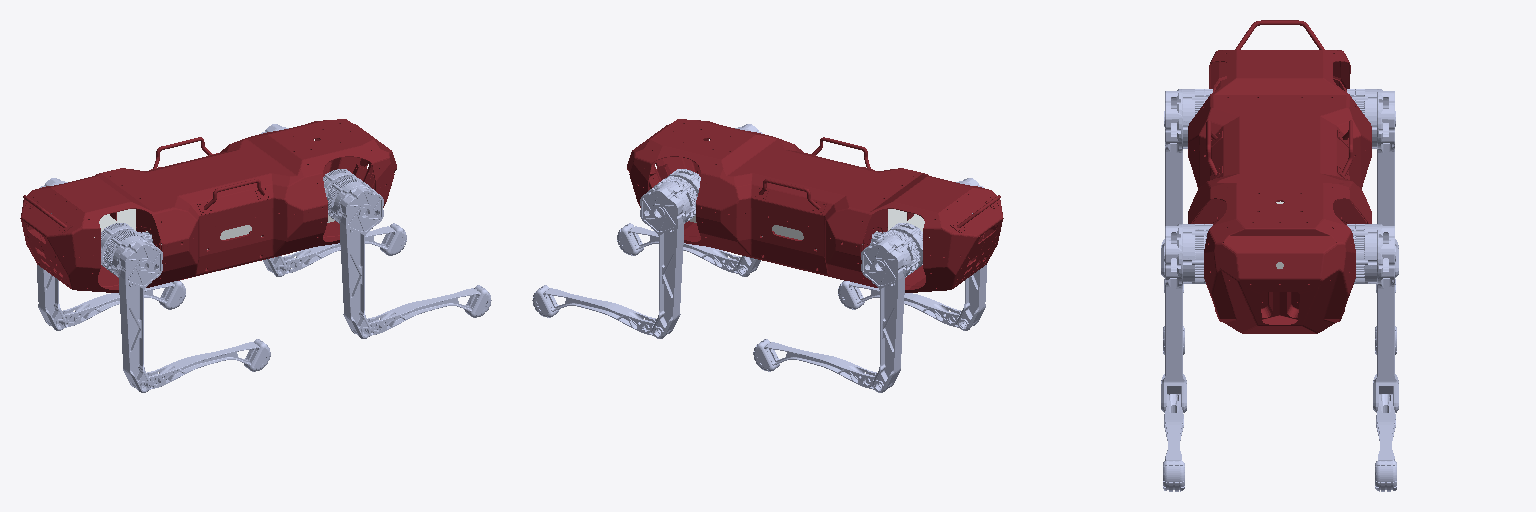
--- What the picture shows (computed from the rendered views, not written in the file) ---
The picture shows the robot from 3 angles, left to right: view 1: azimuth 30°, elevation 25°; view 2: azimuth 150°, elevation 25°; view 3: azimuth 270°, elevation 25°; orthographic projection.
Robot: panda5_test — 32 links, 31 joints (12 revolute, 19 fixed); root link base; default pose: joints at zero except 4 at the middle of their limits (LF_3_Link_joint = -1.56, RF_3_Link_joint = -1.56, LH_3_Link_joint = -1.56, RH_3_Link_joint = -1.56).
Visible links, largest first — view 1: base, RH_2_Link, RF_2_Link, RF_3_Link, RH_3_Link, LH_3_Link, LH_2_Link, LF_3_Link, peizhong_Link, RH_1_Link; view 2: base, LH_2_Link, LF_2_Link, LF_3_Link, LH_3_Link, RH_3_Link, RH_2_Link, RF_3_Link, peizhong_Link, LH_1_Link; view 3: base, RF_2_Link, LF_2_Link, LH_2_Link, RH_2_Link, LF_3_Link, RF_3_Link, LF_zuduan_Link, RF_zuduan_Link.
Link boxes in pixels (box(x1,y1,x2,y2)): base: box(20, 119, 396, 292); RH_2_Link: box(104, 230, 162, 392); RF_2_Link: box(326, 176, 383, 338); RF_3_Link: box(353, 288, 480, 335); RH_3_Link: box(132, 342, 259, 389); LH_3_Link: box(47, 282, 174, 327); LH_2_Link: box(37, 178, 67, 330); LF_3_Link: box(268, 226, 395, 273); peizhong_Link: box(94, 209, 334, 249); RH_1_Link: box(101, 223, 153, 269); base: box(627, 119, 1003, 292); LH_2_Link: box(861, 230, 919, 392); LF_2_Link: box(640, 176, 697, 338); LF_3_Link: box(543, 288, 670, 335); LH_3_Link: box(764, 342, 891, 389); RH_3_Link: box(849, 282, 976, 327); RH_2_Link: box(956, 178, 986, 330); RF_3_Link: box(628, 226, 755, 273); peizhong_Link: box(689, 209, 929, 249); LH_1_Link: box(870, 223, 922, 269); base: box(1188, 20, 1371, 333); RF_2_Link: box(1161, 224, 1212, 412); LF_2_Link: box(1347, 224, 1398, 412); LH_2_Link: box(1347, 89, 1398, 277); RH_2_Link: box(1161, 89, 1212, 277); LF_3_Link: box(1376, 394, 1395, 460); RF_3_Link: box(1164, 394, 1183, 460); LF_zuduan_Link: box(1375, 460, 1396, 491); RF_zuduan_Link: box(1163, 460, 1184, 491).
Size in the robot's own frame: 1.24 by 0.4896 by 0.5127 metres.
18 mesh visuals loaded from 18 distinct referenced files (18 binary STL).

The robot description file, URDF, robot "panda5_test":
<?xml version="1.0" encoding="utf-8"?>
<!-- This URDF was automatically created by SolidWorks to URDF Exporter! Originally created by Stephen Brawner ([email redacted]) 
     Commit Version: 1.6.0-1-g15f4949  Build Version: 1.6.7594.29634
     For more information, please see http://wiki.ros.org/sw_urdf_exporter -->
<robot
  name="panda5_test">
  <link
    name="base">
    <visual>
      <origin
        xyz="0 0 0"
        rpy="0 0 0" />
      <geometry>
        <mesh
          filename="package://meshes/base_link.STL" />
      </geometry>
      <material
        name="">
        <color
          rgba="0.549 0.2 0.235 1.0" />
      </material>
    </visual>
    <collision>
      <origin
        xyz="0.1315 0.017 0.0066"
        rpy="0 0 0" />
      <geometry>
        <box size="1.037 .26 .217"/>  
      </geometry>
    </collision>
  </link>

  <joint name="control_joint" type="fixed">
      <parent link="base"/>
      <child link="control_link"/>
      <origin
        xyz="0.136 0.0166 0.020629"
        rpy="0 0 0" />
  </joint>

  <link name="control_link">
  </link>

  <joint name="base_to_base_inertia" type="fixed">
      <parent link="base"/>
      <child link="base_inertia"/>
      <origin rpy="0 0 0" xyz="0 0 0"/>
  </joint>

  <link name="base_inertia">
    <inertial>
      <origin
        xyz="0.14478 0.016356 0.017801"
        rpy="0 0 0" />
      <mass
        value="2.6548" />
      <inertia
        ixx="0.026123"
        ixy="-8.0841E-06"
        ixz="0.00026624"
        iyy="0.16471"
        iyz="7.822E-07"
        izz="0.18256" />
    </inertial>
  </link>

  <link
    name="peizhong_Link">
    <inertial>
      <origin
        xyz="0.13425 0.016628 -0.0134"
        rpy="0 0 0" />
      <mass
        value="29.505" />
      <inertia
        ixx="0.16252"
        ixy="6.0236E-11"
        ixz="0"
        iyy="1.2136"
        iyz="0"
        izz="1.3585" />
    </inertial>
    <visual>
      <origin
        xyz="0 0 0"
        rpy="0 0 0" />
      <geometry>
        <mesh
          filename="package://meshes/peizhong_Link.STL" />
      </geometry>
      <material
        name="">
        <color
          rgba="0.89804 0.91765 0.92941 1" />
      </material>
    </visual>
  </link>
  <joint
    name="peizhong_Link_joint"
    type="fixed">
    <origin
      xyz="0 0 0"
      rpy="0 0 0" />
    <parent
      link="base" />
    <child
      link="peizhong_Link" />
    <axis
      xyz="0 0 0" />
  </joint>
  <link
    name="LF_1_Link">
    <inertial>
      <origin
        xyz="0.059247 -0.0029797 -0.00092353"
        rpy="0 0 0" />
      <mass
        value="0.18512" />
      <inertia
        ixx="0.00018562"
        ixy="-2.6592E-06"
        ixz="2.3147E-07"
        iyy="0.00045415"
        iyz="1.6002E-07"
        izz="0.00029591" />
    </inertial>
    <visual>
      <origin
        xyz="0 0 0"
        rpy="0 0 0" />
      <geometry>
        <mesh
          filename="package://meshes/LF_1_Link.STL" />
      </geometry>
      <material
        name="">
        <color
          rgba="0.79216 0.81961 0.93333 1" />
      </material>
    </visual>
<!--     <collision>
      <origin
        xyz="0 0 0"
        rpy="0 0 0" />
      <geometry>
        <mesh
          filename="package://meshes/LF_1_Link.STL" />
      </geometry>
    </collision> -->
  </link>
  <joint
    name="LF_1_Link_joint"
    type="revolute">
    <origin
      xyz="0.38425 0.13163 0.020629"
      rpy="0 0 0" />
    <parent
      link="base" />
    <child
      link="LF_1_Link" />
    <axis
      xyz="1 0 0" />
    <limit
      lower="-0.64"
      upper="0.80"
      effort="202.8375"
      velocity="18" />
      <dynamics rotor_inertia="0.0495" damping="0.01" friction="0.2"/>
  </joint>
  <link
    name="LF_1_peizhong_Link">
    <inertial>
      <origin
        xyz="0.081751 -0.024995 -2.2044E-06"
        rpy="0 0 0" />
      <mass
        value="2.2246" />
      <inertia
        ixx="0.0029106"
        ixy="-2.0063E-11"
        ixz="-1.7669E-15"
        iyy="0.0040043"
        iyz="9.6328E-08"
        izz="0.0029106" />
    </inertial>
  </link>
  <joint
    name="LF_1_peizhong_Link_joint"
    type="fixed">
    <origin
      xyz="0 0 0"
      rpy="0 0 0" />
    <parent
      link="LF_1_Link" />
    <child
      link="LF_1_peizhong_Link" />
    <axis
      xyz="0 0 0" />
  </joint>
  <link
    name="LF_2_Link">
    <inertial>
      <origin
        xyz="-0.009016 -0.018516 -0.082774"
        rpy="0 0 0" />
      <mass
        value="0.47211" />
      <inertia
        ixx="0.0044015"
        ixy="-5.7806E-06"
        ixz="-0.00011247"
        iyy="0.0048143"
        iyz="-5.2882E-05"
        izz="0.00049692" />
    </inertial>
    <visual>
      <origin
        xyz="0 0 0"
        rpy="0 0 0" />
      <geometry>
        <mesh
          filename="package://meshes/LF_2_Link.STL" />
      </geometry>
      <material
        name="">
        <color
          rgba="0.79216 0.81961 0.93333 1" />
      </material>
    </visual>
<!--     <collision>
      <origin
        xyz="0 0 0"
        rpy="0 0 0" />
      <geometry>
        <mesh
          filename="package://meshes/LF_2_Link.STL" />
      </geometry>
    </collision> -->
  </link>
  <joint
    name="LF_2_Link_joint"
    type="revolute">
    <origin
      xyz="0.081751 0.10375 0"
      rpy="0.00021197 0.001 0.0001925" />
    <parent
      link="LF_1_Link" />
    <child
      link="LF_2_Link" />
    <axis
      xyz="0 1 0" />
    <limit
      lower="-0.52"
      upper="2.61"
      effort="202.8375"
      velocity="18" />
      <dynamics rotor_inertia="0.0495" damping="0.01" friction="0.2"/>
  </joint>
  <link
    name="LF_2_peizhong_Link">
    <inertial>
      <origin
        xyz="-0.0010406 -0.039509 -0.029788"
        rpy="0 0 0" />
      <mass
        value="2.3492" />
      <inertia
        ixx="0.0047298"
        ixy="-1.1181E-08"
        ixz="0.00013061"
        iyy="0.0058648"
        iyz="-5.9783E-10"
        izz="0.002294" />
    </inertial>
  </link>
  <joint
    name="LF_2_peizhong_Link"
    type="fixed">
    <origin
      xyz="0 0 0"
      rpy="0 0 0" />
    <parent
      link="LF_2_Link" />
    <child
      link="LF_2_peizhong_Link" />
    <axis
      xyz="0 0 0" />
  </joint>
  <link
    name="LF_3_Link">
    <inertial>
      <origin
        xyz="0.010726 1.5105E-05 -0.13966"
        rpy="0 0 0" />
      <mass
        value="0.12897" />
      <inertia
        ixx="0.0015448"
        ixy="2.101E-08"
        ixz="9.5832E-05"
        iyy="0.0015606"
        iyz="-1.8797E-07"
        izz="3.7274E-05" />
    </inertial>
    <visual>
      <origin
        xyz="0 0 0"
        rpy="0 0 0" />
      <geometry>
        <mesh
          filename="package://meshes/LF_3_Link.STL" />
      </geometry>
      <material
        name="">
        <color
          rgba="0.79216 0.81961 0.93333 1" />
      </material>
    </visual>
<!--     <collision>
      <origin
        xyz="0 0 0"
        rpy="0 0 0" />
      <geometry>
        <mesh
          filename="package://meshes/LF_3_Link.STL" />
      </geometry>
    </collision> -->
  </link>
  <joint
    name="LF_3_Link_joint"
    type="revolute">
    <origin
      xyz="-2.8395E-05 0 -0.34"
      rpy="-3.1416 -3.1417 3.1416" />
    <parent
      link="LF_2_Link" />
    <child
      link="LF_3_Link" />
    <axis
      xyz="0 1 0" />
    <limit
      lower="-2.61"
      upper="-0.52"
      effort="202.8375"
      velocity="18" />
      <dynamics rotor_inertia="0.0495" damping="0.01" friction="0.2"/>
  </joint>
  <link
    name="LF_3_peizhong_Link">
    <inertial>
      <origin
        xyz="0.00725 -4.0301E-14 -0.16862"
        rpy="0 0 0" />
      <mass
        value="0.24236" />
      <inertia
        ixx="0.0012805"
        ixy="-8.6066E-17"
        ixz="3.5795E-20"
        iyy="0.001265"
        iyz="-5.0031E-20"
        izz="2.0848E-05" />
    </inertial>
    <collision>
      <origin
        xyz="0.00725 -4.0301E-14 -0.16862"
        rpy="0 0 0" />
      <geometry>
        <box size=".041 .041 .25"/> 
      </geometry>
    </collision>
  </link>
    
  <joint
    name="LF_3_peizhong_Link_joint"
    type="fixed">
    <origin
      xyz="0 0 0"
      rpy="0 0 0" />
    <parent
      link="LF_3_Link" />
    <child
      link="LF_3_peizhong_Link" />
    <axis
      xyz="0 0 0" />
  </joint>
  <link
    name="LF_zuduan_Link">
    <inertial>
      <origin
        xyz="-0.0090407 1.3416E-07 -0.015667"
        rpy="0 0 0" />
      <mass
        value="0.098309" />
      <inertia
        ixx="3.5722E-05"
        ixy="-1.1338E-10"
        ixz="1.2758E-05"
        iyy="5.0334E-05"
        iyz="-1.4161E-10"
        izz="5.0474E-05" />
    </inertial>
    <visual>
      <origin
        xyz="0 0 0"
        rpy="0 0 0" />
      <geometry>
        <mesh
          filename="package://meshes/LF_zuduan_Link.STL" />
      </geometry>
      <material
        name="">
        <color
          rgba="0.79216 0.81961 0.93333 1" />
      </material>
    </visual>
    <collision>
      <origin
        xyz="0 0 0"
        rpy="0 0 0" />
      <geometry>
        <sphere radius="0.041"/><!-- <cylinder length='.028' radius="0.02"/> -->
      </geometry>
      <material name="">
        <contact name="foot0"/>
      </material>
    </collision>
  </link>
  <joint
    name="LF_zuduan_Link_joint"
    type="fixed">
    <origin
      xyz="0.0042202 0 -0.3386"
      rpy="0 0 0" />
    <parent
      link="LF_3_Link" />
    <child
      link="LF_zuduan_Link" />
    <axis
      xyz="0 0 0" />
  </joint>
  <link
    name="RF_1_Link">
    <inertial>
      <origin
        xyz="0.059247 0.0029797 -0.00092332"
        rpy="0 0 0" />
      <mass
        value="0.18511" />
      <inertia
        ixx="0.00018562"
        ixy="2.6593E-06"
        ixz="2.3166E-07"
        iyy="0.00045414"
        iyz="-1.4607E-07"
        izz="0.00029591" />
    </inertial>
    <visual>
      <origin
        xyz="0 0 0"
        rpy="0 0 0" />
      <geometry>
        <mesh
          filename="package://meshes/RF_1_Link.STL" />
      </geometry>
      <material
        name="">
        <color
          rgba="0.79216 0.81961 0.93333 1" />
      </material>
    </visual>
<!--     <collision>
      <origin
        xyz="0 0 0"
        rpy="0 0 0" />
      <geometry>
        <mesh
          filename="package://meshes/RF_1_Link.STL" />
      </geometry>
    </collision> -->
  </link>
  <joint
    name="RF_1_Link_joint"
    type="revolute">
    <origin
      xyz="0.38425 -0.098372 0.020629"
      rpy="-8.807E-05 0 0" />
    <parent
      link="base" />
    <child
      link="RF_1_Link" />
    <axis
      xyz="1 0 0" />
    <limit
      lower="-0.80"
      upper="0.64"
      effort="202.8375"
      velocity="18" />
      <dynamics rotor_inertia="0.0495" damping="0.01" friction="0.2"/>
  </joint>
  <link
    name="RF_1_peizhong_Link">
    <inertial>
      <origin
        xyz="0.081751 0.024995 -1.3943E-09"
        rpy="0 0 0" />
      <mass
        value="2.2246" />
      <inertia
        ixx="0.0029106"
        ixy="-1.9141E-14"
        ixz="3.1359E-25"
        iyy="0.0040043"
        iyz="-1.9141E-14"
        izz="0.0029106" />
    </inertial>
  </link>
  <joint
    name="RF_1_peizhong_Link_joint"
    type="fixed">
    <origin
      xyz="0 0 0"
      rpy="0 0 0" />
    <parent
      link="RF_1_Link" />
    <child
      link="RF_1_peizhong_Link" />
    <axis
      xyz="0 0 0" />
  </joint>
  <link
    name="RF_2_Link">
    <inertial>
      <origin
        xyz="-0.009016 0.01851 -0.082776"
        rpy="0 0 0" />
      <mass
        value="0.47211" />
      <inertia
        ixx="0.0044015"
        ixy="5.7728E-06"
        ixz="-0.00011247"
        iyy="0.0048143"
        iyz="5.2593E-05"
        izz="0.00049691" />
    </inertial>
    <visual>
      <origin
        xyz="0 0 0"
        rpy="0 0 0" />
      <geometry>
        <mesh
          filename="package://meshes/RF_2_Link.STL" />
      </geometry>
      <material
        name="">
        <color
          rgba="0.79216 0.81961 0.93333 1" />
      </material>
    </visual>
<!--     <collision>
      <origin
        xyz="0 0 0"
        rpy="0 0 0" />
      <geometry>
        <mesh
          filename="package://meshes/RF_2_Link.STL" />
      </geometry>
    </collision> -->
  </link>
  <joint
    name="RF_2_Link_joint"
    type="revolute">
    <origin
      xyz="0.081751 -0.10375 0"
      rpy="9.0571E-05 0.001 2.6167E-05" />
    <parent
      link="RF_1_Link" />
    <child
      link="RF_2_Link" />
    <axis
      xyz="0 1 6.6299E-05" />
    <limit
      lower="-0.52"
      upper="2.61"
      effort="202.8375"
      velocity="18" />
      <dynamics rotor_inertia="0.0495" damping="0.01" friction="0.2"/>
  </joint>
  <link
    name="RF_2_peizhong_Link">
    <inertial>
      <origin
        xyz="-0.0010406 0.039507 -0.029791"
        rpy="0 0 0" />
      <mass
        value="2.3492" />
      <inertia
        ixx="0.0047298"
        ixy="1.9908E-08"
        ixz="0.00013061"
        iyy="0.0058648"
        iyz="-2.3801E-07"
        izz="0.002294" />
    </inertial>
  </link>
  <joint
    name="RF_2_peizhong_Link"
    type="fixed">
    <origin
      xyz="0 0 0"
      rpy="0 0 0" />
    <parent
      link="RF_2_Link" />
    <child
      link="RF_2_peizhong_Link" />
    <axis
      xyz="0 0 0" />
  </joint>
  <link
    name="RF_3_Link">
    <inertial>
      <origin
        xyz="0.010726 -2.7864E-05 -0.13966"
        rpy="0 0 0" />
      <mass
        value="0.12897" />
      <inertia
        ixx="0.0015448"
        ixy="-1.2496E-08"
        ixz="9.5832E-05"
        iyy="0.0015606"
        iyz="4.8157E-08"
        izz="3.7274E-05" />
    </inertial>
    <visual>
      <origin
        xyz="0 0 0"
        rpy="0 0 0" />
      <geometry>
        <mesh
          filename="package://meshes/RF_3_Link.STL" />
      </geometry>
      <material
        name="">
        <color
          rgba="0.79216 0.81961 0.93333 1" />
      </material>
    </visual>
<!--     <collision>
      <origin
        xyz="0 0 0"
        rpy="0 0 0" />
      <geometry>
        <mesh
          filename="package://meshes/RF_3_Link.STL" />
      </geometry>
    </collision> -->
  </link>
  <joint
    name="RF_3_Link_joint"
    type="revolute">
    <origin
      xyz="-2.8393E-05 -2.2719E-05 -0.34"
      rpy="-3.1414 -3.1417 3.1415" />
    <parent
      link="RF_2_Link" />
    <child
      link="RF_3_Link" />
    <axis
      xyz="0 1 9.1172E-05" />
    <limit
      lower="-2.61"
      upper="-0.52"
      effort="202.8375"
      velocity="18" />
      <dynamics rotor_inertia="0.0495" damping="0.01" friction="0.2"/>
  </joint>
  <link
    name="RF_3_peizhong_Link">
    <inertial>
      <origin
        xyz="0.00725 -1.5373E-05 -0.16862"
        rpy="0 0 0" />
      <mass
        value="0.24236" />
      <inertia
        ixx="0.0012805"
        ixy="-5.9337E-16"
        ixz="-7.4524E-12"
        iyy="0.001265"
        iyz="-1.1343E-07"
        izz="2.0848E-05" />
    </inertial>
    <collision>
      <origin
        xyz="0.00725 -1.5373E-05 -0.16862"
        rpy="0 0 0" />
      <geometry>
        <box size=".041 .041 .25"/> 
      </geometry>
    </collision>
  </link>
  <joint
    name="RF_3_peizhong_Link_joint"
    type="fixed">
    <origin
      xyz="0 0 0"
      rpy="0 0 0" />
    <parent
      link="RF_3_Link" />
    <child
      link="RF_3_peizhong_Link" />
    <axis
      xyz="0 0 0" />
  </joint>
  <link
    name="RF_zuduan_Link">
    <inertial>
      <origin
        xyz="-0.0090407 -1.4654E-06 -0.015667"
        rpy="0 0 0" />
      <mass
        value="0.098309" />
      <inertia
        ixx="3.5722E-05"
        ixy="1.398E-09"
        ixz="1.2758E-05"
        iyy="5.0334E-05"
        iyz="4.8805E-11"
        izz="5.0474E-05" />
    </inertial>
    <visual>
      <origin
        xyz="0 0 0"
        rpy="0 0 0" />
      <geometry>
        <mesh
          filename="package://meshes/RF_zuduan_Link.STL" />
      </geometry>
      <material
        name="">
        <color
          rgba="0.79216 0.81961 0.93333 1" />
      </material>
    </visual>
    <collision>
      <origin
        xyz="0 0 0"
        rpy="0 0 0" />
      <geometry>
        <sphere radius="0.041"/><!-- <cylinder length='.028' radius="0.02"/> -->
      </geometry>
      <material name="">
        <contact name="foot1"/>
      </material>
    </collision>
  </link>
  <joint
    name="RF_zuduan_Link_joint"
    type="fixed">
    <origin
      xyz="0.0042202 -3.0871E-05 -0.3386"
      rpy="0 0 0" />
    <parent
      link="RF_3_Link" />
    <child
      link="RF_zuduan_Link" />
    <axis
      xyz="0 0 0" />
  </joint>
  <link
    name="LH_1_Link">
    <inertial>
      <origin
        xyz="-0.059246 -0.0029796 -0.00092358"
        rpy="0 0 0" />
      <mass
        value="0.18511" />
      <inertia
        ixx="0.00018562"
        ixy="2.6593E-06"
        ixz="-2.3143E-07"
        iyy="0.00045414"
        iyz="1.6001E-07"
        izz="0.00029591" />
    </inertial>
    <visual>
      <origin
        xyz="0 0 0"
        rpy="0 0 0" />
      <geometry>
        <mesh
          filename="package://meshes/LH_1_Link.STL" />
      </geometry>
      <material
        name="">
        <color
          rgba="0.79216 0.81961 0.93333 1" />
      </material>
    </visual>
<!--     <collision>
      <origin
        xyz="0 0 0"
        rpy="0 0 0" />
      <geometry>
        <mesh
          filename="package://meshes/LH_1_Link.STL" />
      </geometry>
    </collision> -->
  </link>
  <joint
    name="LH_1_Link_joint"
    type="revolute">
    <origin
      xyz="-0.11225 0.13163 0.020629"
      rpy="0 0 0" />
    <parent
      link="base" />
    <child
      link="LH_1_Link" />
    <axis
      xyz="1 0 0" />
    <limit
      lower="-0.64"
      upper="0.80"
      effort="202.8375"
      velocity="18" />
      <dynamics rotor_inertia="0.0495" damping="0.01" friction="0.2"/>
  </joint>
  <link
    name="LH_1_peizhong_Link">
    <inertial>
      <origin
        xyz="-0.081749 -0.024995 -2.201E-06"
        rpy="0 0 0" />
      <mass
        value="2.2246" />
      <inertia
        ixx="0.0029106"
        ixy="2.0063E-11"
        ixz="1.7668E-15"
        iyy="0.0040043"
        iyz="9.6328E-08"
        izz="0.0029106" />
    </inertial>
  </link>
  <joint
    name="LH_1_peizhong_Link_joint"
    type="fixed">
    <origin
      xyz="0 0 0"
      rpy="0 0 0" />
    <parent
      link="LH_1_Link" />
    <child
      link="LH_1_peizhong_Link" />
    <axis
      xyz="0 0 0" />
  </joint>
  <link
    name="LH_2_Link">
    <inertial>
      <origin
        xyz="-0.0090089 -0.018515 -0.082776"
        rpy="0 0 0" />
      <mass
        value="0.47211" />
      <inertia
        ixx="0.0044017"
        ixy="-5.7814E-06"
        ixz="-0.00011205"
        iyy="0.0048143"
        iyz="-5.2879E-05"
        izz="0.0004968" />
    </inertial>
    <visual>
      <origin
        xyz="0 0 0"
        rpy="0 0 0" />
      <geometry>
        <mesh
          filename="package://meshes/LH_2_Link.STL" />
      </geometry>
      <material
        name="">
        <color
          rgba="0.79216 0.81961 0.93333 1" />
      </material>
    </visual>
<!--     <collision>
      <origin
        xyz="0 0 0"
        rpy="0 0 0" />
      <geometry>
        <mesh
          filename="package://meshes/LH_2_Link.STL" />
      </geometry>
    </collision> -->
  </link>
  <joint
    name="LH_2_Link_joint"
    type="revolute">
    <origin
      xyz="-0.081749 0.10375 0"
      rpy="0.00016346 0.001 0.0001402" />
    <parent
      link="LH_1_Link" />
    <child
      link="LH_2_Link" />
    <axis
      xyz="-2.9315E-05 1 0" />
    <limit
      lower="-0.52"
      upper="2.61"
      effort="202.8375"
      velocity="18" />
      <dynamics rotor_inertia="0.0495" damping="0.01" friction="0.2"/>
  </joint>
  <link
    name="LH_2_peizhong_Link">
    <inertial>
      <origin
        xyz="-0.0010373 -0.039508 -0.029788"
        rpy="0 0 0" />
      <mass
        value="2.3492" />
      <inertia
        ixx="0.0047297"
        ixy="-3.3666E-08"
        ixz="0.00013082"
        iyy="0.0058648"
        iyz="2.0624E-09"
        izz="0.002294" />
    </inertial>
  </link>
  <joint
    name="LH_2_peizhong_Link_joint"
    type="fixed">
    <origin
      xyz="0 0 0"
      rpy="0 0 0" />
    <parent
      link="LH_2_Link" />
    <child
      link="LH_2_peizhong_Link" />
    <axis
      xyz="0 0 0" />
  </joint>
  <link
    name="LH_3_Link">
    <inertial>
      <origin
        xyz="0.010726 1.2665E-05 -0.13966"
        rpy="0 0 0" />
      <mass
        value="0.12897" />
      <inertia
        ixx="0.0015448"
        ixy="2.2684E-08"
        ixz="9.5833E-05"
        iyy="0.0015606"
        iyz="-2.1458E-07"
        izz="3.7275E-05" />
    </inertial>
    <visual>
      <origin
        xyz="0 0 0"
        rpy="0 0 0" />
      <geometry>
        <mesh
          filename="package://meshes/LH_3_Link.STL" />
      </geometry>
      <material
        name="">
        <color
          rgba="0.79216 0.81961 0.93333 1" />
      </material>
    </visual>
<!--     <collision>
      <origin
        xyz="0 0 0"
        rpy="0 0 0" />
      <geometry>
        <mesh
          filename="package://meshes/LH_3_Link.STL" />
      </geometry>
    </collision> -->
  </link>
  <joint
    name="LH_3_Link_joint"
    type="revolute">
    <origin
      xyz="0 0 -0.34"
      rpy="-3.1416 -3.1417 -3.1416" />
    <parent
      link="LH_2_Link" />
    <child
      link="LH_3_Link" />
    <axis
      xyz="0 1 1.7472E-05" />
    <limit
      lower="-2.61"
      upper="-0.52"
      effort="202.8375"
      velocity="18" />
      <dynamics rotor_inertia="0.0495" damping="0.01" friction="0.2"/>
  </joint>
  <link
    name="LH_3_peizhong_Link">
    <inertial>
      <origin
        xyz="0.0072501 -2.9461E-06 -0.16862"
        rpy="0 0 0" />
      <mass
        value="0.24236" />
      <inertia
        ixx="0.0012805"
        ixy="1.4503E-14"
        ixz="8.3496E-10"
        iyy="0.001265"
        iyz="-2.1738E-08"
        izz="2.0848E-05" />
    </inertial>
    <collision>
      <origin
        xyz="0.0072501 -2.9461E-06 -0.16862"
        rpy="0 0 0" />
      <geometry>
        <box size=".041 .041 .25"/> 
      </geometry>
    </collision>
  </link>
  <joint
    name="LH_3_peizhong_Link_joint"
    type="fixed">
    <origin
      xyz="0 0 0"
      rpy="0 0 0" />
    <parent
      link="LH_3_Link" />
    <child
      link="LH_3_peizhong_Link" />
    <axis
      xyz="0 0 0" />
  </joint>
  <link
    name="LH_zuduan_Link">
    <inertial>
      <origin
        xyz="-0.0090407 -1.3958E-07 -0.015667"
        rpy="0 0 0" />
      <mass
        value="0.098309" />
      <inertia
        ixx="3.5722E-05"
        ixy="1.0953E-10"
        ixz="1.2758E-05"
        iyy="5.0334E-05"
        iyz="-1.3916E-10"
        izz="5.0474E-05" />
    </inertial>
    <visual>
      <origin
        xyz="0 0 0"
        rpy="0 0 0" />
      <geometry>
        <mesh
          filename="package://meshes/LH_zuduan_Link.STL" />
      </geometry>
      <material
        name="">
        <color
          rgba="0.79216 0.81961 0.93333 1" />
      </material>
    </visual>
    <collision>
      <origin
        xyz="0 0 0"
        rpy="0 0 0" />
      <geometry>
        <sphere radius="0.041"/><!-- <cylinder length='.028' radius="0.02"/> -->
      </geometry>
      <material name="">
        <contact name="foot2"/>
      </material>
    </collision>
  </link>
  <joint
    name="LH_zuduan_Link_joint"
    type="fixed">
    <origin
      xyz="0.0042204 0 -0.3386"
      rpy="0 0 0" />
    <parent
      link="LH_3_Link" />
    <child
      link="LH_zuduan_Link" />
    <axis
      xyz="0 0 0" />
  </joint>
  <link
    name="RH_1_Link">
    <inertial>
      <origin
        xyz="-0.059246 0.0029798 -0.00092353"
        rpy="0 0 0" />
      <mass
        value="0.18512" />
      <inertia
        ixx="0.00018562"
        ixy="-2.6592E-06"
        ixz="-2.3147E-07"
        iyy="0.00045415"
        iyz="-1.6001E-07"
        izz="0.00029591" />
    </inertial>
    <visual>
      <origin
        xyz="0 0 0"
        rpy="0 0 0" />
      <geometry>
        <mesh
          filename="package://meshes/RH_1_Link.STL" />
      </geometry>
      <material
        name="">
        <color
          rgba="0.79216 0.81961 0.93333 1" />
      </material>
    </visual>
<!--     <collision>
      <origin
        xyz="0 0 0"
        rpy="0 0 0" />
      <geometry>
        <mesh
          filename="package://meshes/RH_1_Link.STL" />
      </geometry>
    </collision> -->
  </link>
  <joint
    name="RH_1_Link_joint"
    type="revolute">
    <origin
      xyz="-0.11225 -0.098372 0.020629"
      rpy="0 0 0" />
    <parent
      link="base" />
    <child
      link="RH_1_Link" />
    <axis
      xyz="1 0 0" />
    <limit
      lower="-0.80"
      upper="0.64"
      effort="202.8375"
      velocity="18" />
      <dynamics rotor_inertia="0.0495" damping="0.01" friction="0.2"/>
  </joint>
  <link
    name="RH_1_peizhong_Link">
    <inertial>
      <origin
        xyz="-0.081749 0.024995 -2.1993E-06"
        rpy="0 0 0" />
      <mass
        value="2.2246" />
      <inertia
        ixx="0.0029106"
        ixy="-2.0064E-11"
        ixz="1.7652E-15"
        iyy="0.0040043"
        iyz="-9.6227E-08"
        izz="0.0029106" />
    </inertial>
  </link>
  <joint
    name="RH_1_peizhong_Link_joint"
    type="fixed">
    <origin
      xyz="0 0 0"
      rpy="0 0 0" />
    <parent
      link="RH_1_Link" />
    <child
      link="RH_1_peizhong_Link" />
    <axis
      xyz="0 0 0" />
  </joint>
  <link
    name="RH_2_Link">
    <inertial>
      <origin
        xyz="-0.0090089 0.01851 -0.082777"
        rpy="0 0 0" />
      <mass
        value="0.47211" />
      <inertia
        ixx="0.0044017"
        ixy="5.7737E-06"
        ixz="-0.00011204"
        iyy="0.0048143"
        iyz="5.259E-05"
        izz="0.0004968" />
    </inertial>
    <visual>
      <origin
        xyz="0 0 0"
        rpy="0 0 0" />
      <geometry>
        <mesh
          filename="package://meshes/RH_2_Link.STL" />
      </geometry>
      <material
        name="">
        <color
          rgba="0.79216 0.81961 0.93333 1" />
      </material>
    </visual>
<!--     <collision>
      <origin
        xyz="0 0 0"
        rpy="0 0 0" />
      <geometry>
        <mesh
          filename="package://meshes/RH_2_Link.STL" />
      </geometry>
    </collision> -->
  </link>
  <joint
    name="RH_2_Link_joint"
    type="revolute">
    <origin
      xyz="-0.081749 -0.10375 0"
      rpy="-9.6404E-05 0.001 -0.00013998" />
    <parent
      link="RH_1_Link" />
    <child
      link="RH_2_Link" />
    <axis
      xyz="2.9315E-05 1 -6.632E-05" />
    <limit
      lower="-0.52"
      upper="2.61"
      effort="202.8375"
      velocity="18" />
      <dynamics rotor_inertia="0.0495" damping="0.01" friction="0.2"/>
  </joint>
  <link
    name="RH_2_peizhong_Link">
    <inertial>
      <origin
        xyz="-0.0010373 0.039506 -0.029791"
        rpy="0 0 0" />
      <mass
        value="2.3492" />
      <inertia
        ixx="0.0047297"
        ixy="4.2406E-08"
        ixz="0.00013082"
        iyy="0.0058648"
        iyz="-2.4062E-07"
        izz="0.002294" />
    </inertial>
  </link>
  <joint
    name="RH_2_peizhong_Link_joint"
    type="fixed">
    <origin
      xyz="0 0 0"
      rpy="0 0 0" />
    <parent
      link="RH_2_Link" />
    <child
      link="RH_2_peizhong_Link" />
    <axis
      xyz="0 0 0" />
  </joint>
  <link
    name="RH_3_Link">
    <inertial>
      <origin
        xyz="0.010726 -2.5424E-05 -0.13966"
        rpy="0 0 0" />
      <mass
        value="0.12897" />
      <inertia
        ixx="0.0015448"
        ixy="-1.4171E-08"
        ixz="9.5833E-05"
        iyy="0.0015606"
        iyz="7.4772E-08"
        izz="3.7274E-05" />
    </inertial>
    <visual>
      <origin
        xyz="0 0 0"
        rpy="0 0 0" />
      <geometry>
        <mesh
          filename="package://meshes/RH_3_Link.STL" />
      </geometry>
      <material
        name="">
        <color
          rgba="0.79216 0.81961 0.93333 1" />
      </material>
    </visual>
<!--     <collision>
      <origin
        xyz="0 0 0"
        rpy="0 0 0" />
      <geometry>
        <mesh
          filename="package://meshes/RH_3_Link.STL" />
      </geometry>
    </collision> -->
  </link>
  <joint
    name="RH_3_Link_joint"
    type="revolute">
    <origin
      xyz="0 -2.3082E-05 -0.34"
      rpy="-3.1414 -3.1417 3.1415" />
    <parent
      link="RH_2_Link" />
    <child
      link="RH_3_Link" />
    <axis
      xyz="0 1 7.37E-05" />
    <limit
      lower="-2.61"
      upper="-0.52"
      effort="202.8375"
      velocity="18" />
      <dynamics rotor_inertia="0.0495" damping="0.01" friction="0.2"/>
  </joint>
  <link
    name="RH_3_peizhong_Link">
    <inertial>
      <origin
        xyz="0.0072501 -1.2445E-05 -0.16887"
        rpy="0 0 0" />
      <mass
        value="0.24236" />
      <inertia
        ixx="0.0012805"
        ixy="6.1148E-14"
        ixz="8.2852E-10"
        iyy="0.001265"
        iyz="-9.1692E-08"
        izz="2.0848E-05" />
    </inertial>
    <collision>
      <origin
        xyz="0.0072501 -1.2445E-05 -0.16887"
        rpy="0 0 0" />
      <geometry>
        <box size=".041 .041 .25"/> 
      </geometry>
    </collision>
  </link>
  <joint
    name="RH_3_peizhong_Link_joint"
    type="fixed">
    <origin
      xyz="0 0 0"
      rpy="0 0 0" />
    <parent
      link="RH_3_Link" />
    <child
      link="RH_3_peizhong_Link" />
    <axis
      xyz="0 0 0" />
  </joint>
  <link
    name="RH_zuduan_Link">
    <inertial>
      <origin
        xyz="-0.0090407 -1.1916E-06 -0.015667"
        rpy="0 0 0" />
      <mass
        value="0.098309" />
      <inertia
        ixx="3.5722E-05"
        ixy="1.1751E-09"
        ixz="1.2758E-05"
        iyy="5.0334E-05"
        iyz="4.6361E-11"
        izz="5.0474E-05" />
    </inertial>
    <visual>
      <origin
        xyz="0 0 0"
        rpy="0 0 0" />
      <geometry>
        <mesh
          filename="package://meshes/RH_zuduan_Link.STL" />
      </geometry>
      <material
        name="">
        <color
          rgba="0.79216 0.81961 0.93333 1" />
      </material>
    </visual>
    <collision>
      <origin
        xyz="0 0 0"
        rpy="0 0 0" />
      <geometry>
        <sphere radius="0.041"/><!-- <cylinder length='.028' radius="0.02"/> -->
      </geometry>
      <material name="">
        <contact name="foot3"/>
      </material>
    </collision>
  </link>
  <joint
    name="RH_zuduan_Link_joint"
    type="fixed">
    <origin
      xyz="0.0042204 -2.4955E-05 -0.3386"
      rpy="0 0 0" />
    <parent
      link="RH_3_Link" />
    <child
      link="RH_zuduan_Link" />
    <axis
      xyz="0 0 0" />
  </joint>
</robot>
